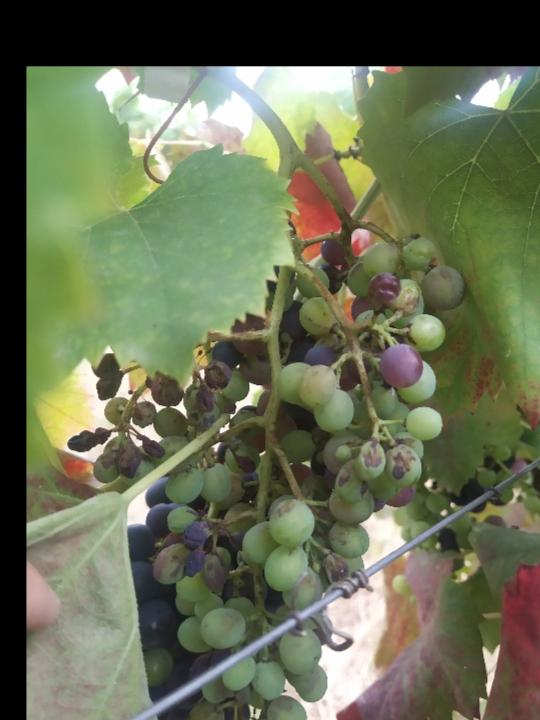grape: (62, 231, 469, 720)
